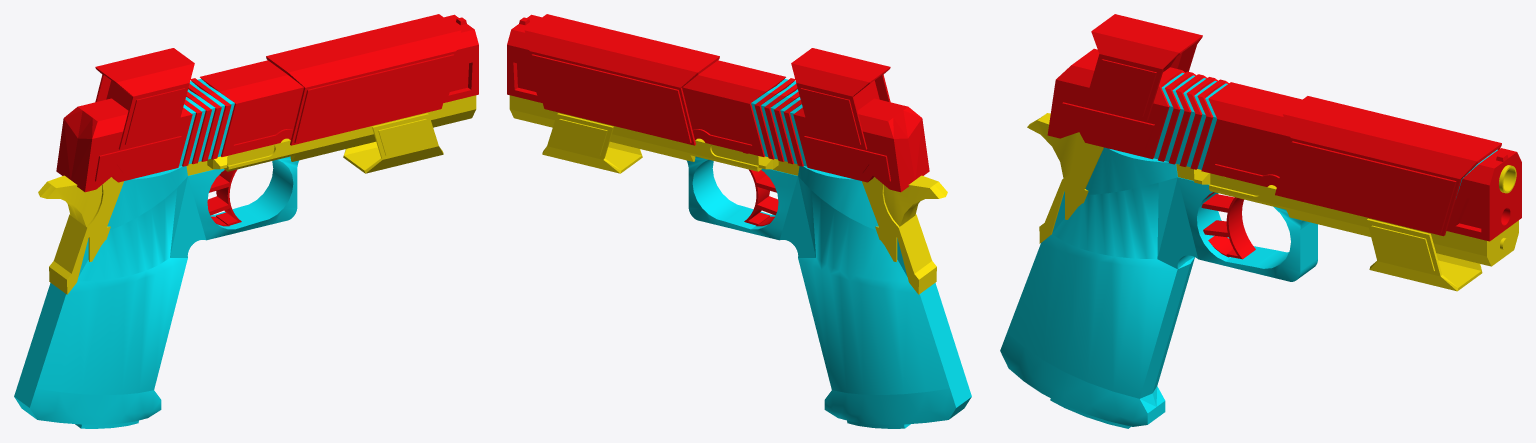
File: player_gun.fbx
The picture shows the model from 3 angles, left to right: view 1: azimuth 30°, elevation 25°; view 2: azimuth 150°, elevation 25°; view 3: azimuth 330°, elevation 25°; orthographic projection. The views are drawn at different scales.
Visible parts, largest first — view 1: Group1, Group6, Group5, Group4, Group7, Group3, Group2, Group8; view 2: Group1, Group6, Group5, Group4, Group7, Group3, Group2, Group8; view 3: Group1, Group6, Group5, Group4, Group3, Group2, Group7, Group8.
Part boxes in pixels (x1,y1,x2,y2): Group1: (14, 156, 299, 428); Group6: (56, 14, 478, 192); Group5: (266, 14, 461, 145); Group4: (95, 48, 194, 149); Group7: (38, 161, 213, 294); Group3: (207, 95, 476, 171); Group2: (343, 113, 443, 173); Group8: (207, 169, 241, 226); Group1: (686, 156, 971, 428); Group6: (507, 14, 929, 192); Group5: (524, 14, 719, 145); Group4: (791, 48, 890, 149); Group7: (772, 161, 947, 294); Group3: (509, 95, 778, 171); Group2: (542, 113, 642, 173); Group8: (744, 169, 778, 226); Group1: (1000, 147, 1317, 428); Group6: (1047, 48, 1521, 241); Group5: (1275, 96, 1501, 236); Group4: (1084, 14, 1202, 121); Group3: (1194, 169, 1518, 266); Group2: (1367, 218, 1482, 291); Group7: (1027, 113, 1193, 243); Group8: (1201, 192, 1255, 259).
Size of the model in its own units: 942 by 709 by 127.
